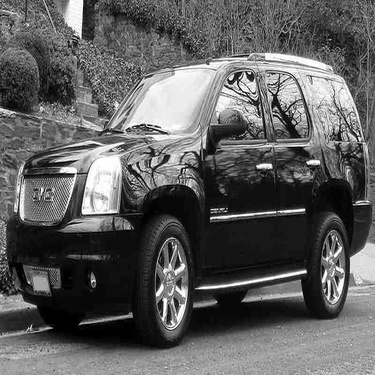car: (3, 49, 373, 345)
